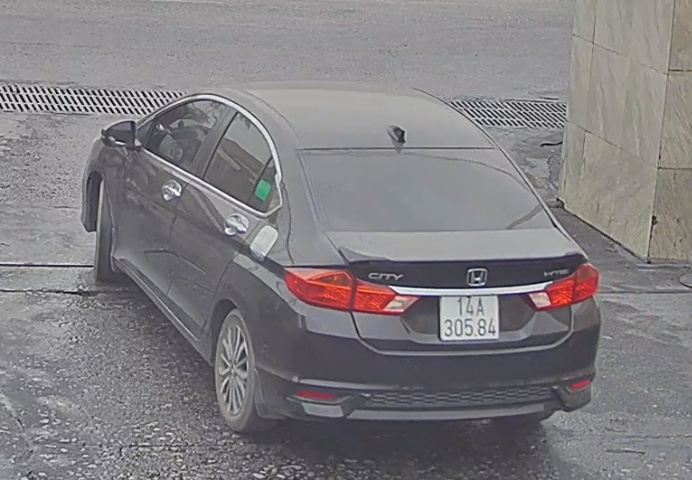vehicle plate: (432, 286, 500, 341)
